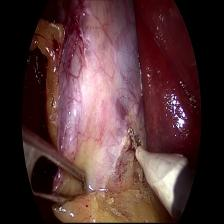Grasper: (20, 125, 92, 210)
Hook: (127, 125, 186, 209)
